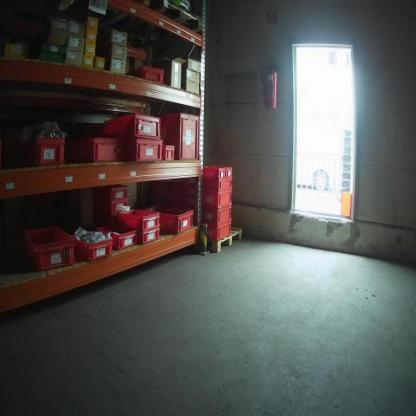pallet: (100, 2, 204, 46), (67, 0, 169, 35), (202, 223, 244, 254)
small_load_carrier: (22, 218, 79, 272), (162, 110, 200, 164), (104, 111, 165, 138), (143, 204, 195, 235), (76, 226, 113, 267), (72, 132, 124, 161), (24, 133, 65, 165), (123, 136, 167, 164), (96, 222, 137, 251), (115, 206, 161, 230), (126, 61, 168, 86), (203, 205, 233, 224), (203, 224, 235, 241), (204, 189, 233, 205), (139, 226, 161, 247), (204, 176, 233, 190), (202, 163, 226, 178), (162, 142, 177, 164), (224, 167, 234, 176)
